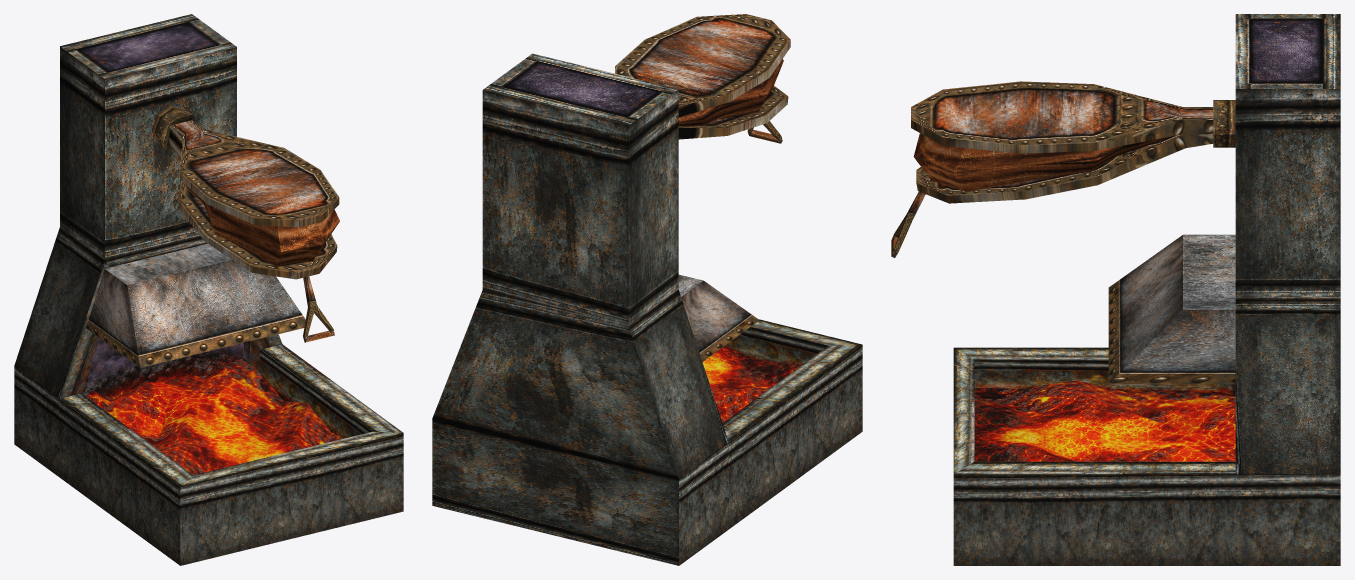
File: mm9_deco_forge.glb
3 views of the same model, side by side, from view 1: azimuth 30°, elevation 25°; view 2: azimuth 150°, elevation 25°; view 3: azimuth 270°, elevation 25° (orthographic). The views are drawn at different scales.
Visible parts, largest first — view 1: Forge; view 2: Forge; view 3: Forge.
Part boxes in pixels (left/top/right/bottom): Forge: left=14, top=14, right=403, bottom=565; Forge: left=432, top=14, right=862, bottom=565; Forge: left=891, top=14, right=1340, bottom=565.
Size of the model in its own units: 2.63 by 4.37 by 3.94.
2 materials, 2 textured.
